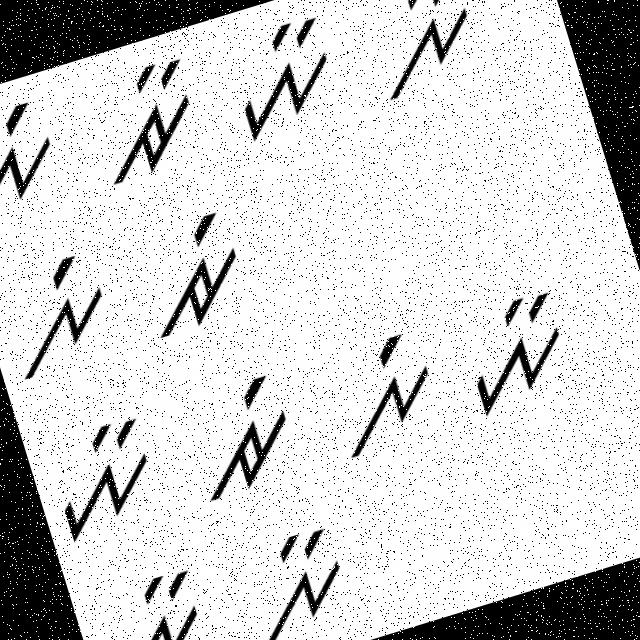lan: (218, 515, 364, 639), (349, 0, 497, 107)
lang: (306, 314, 452, 465), (0, 237, 129, 384)
ran: (82, 50, 216, 194), (81, 560, 227, 639)
rang: (122, 204, 266, 348), (170, 366, 308, 511)
yan: (441, 277, 592, 428), (28, 402, 170, 548), (208, 9, 350, 151)
yang: (0, 90, 74, 231)
